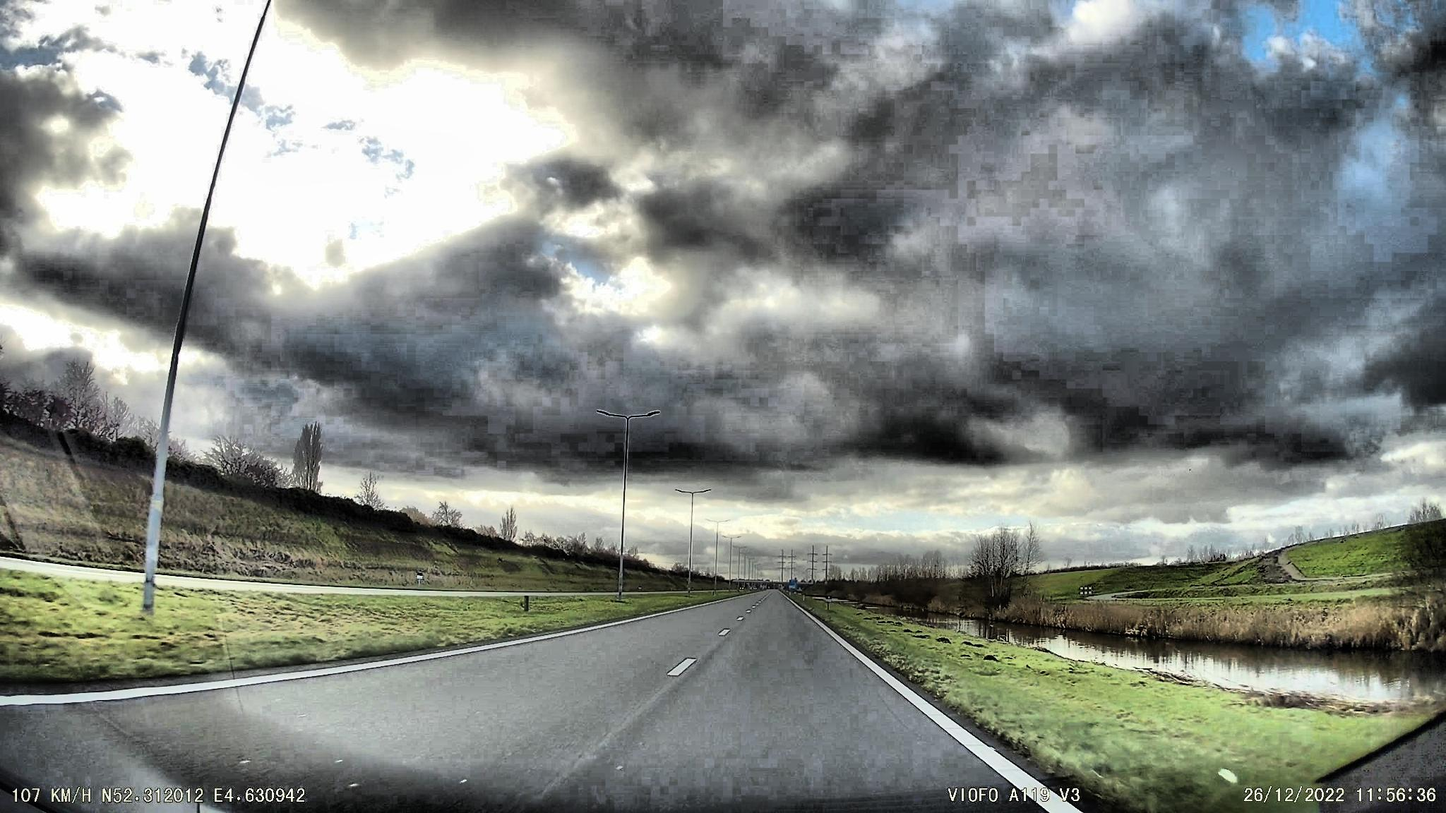Roads: (0, 594, 1104, 813)
